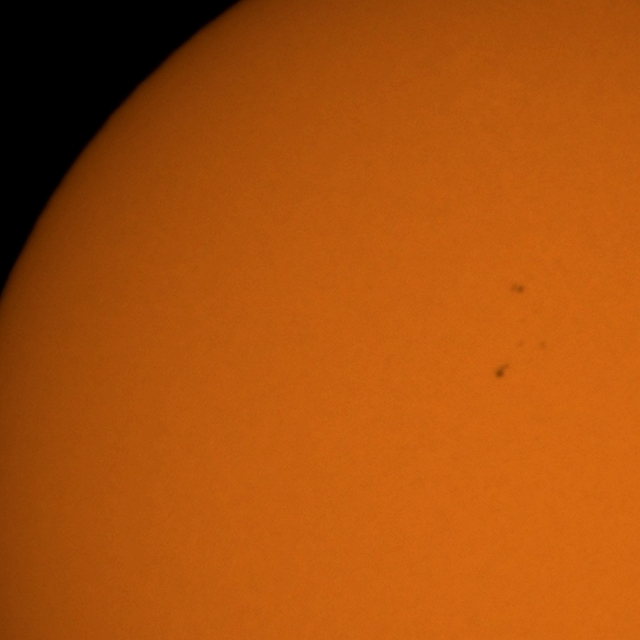sunspot: (492, 362, 510, 381), (509, 281, 526, 297)
